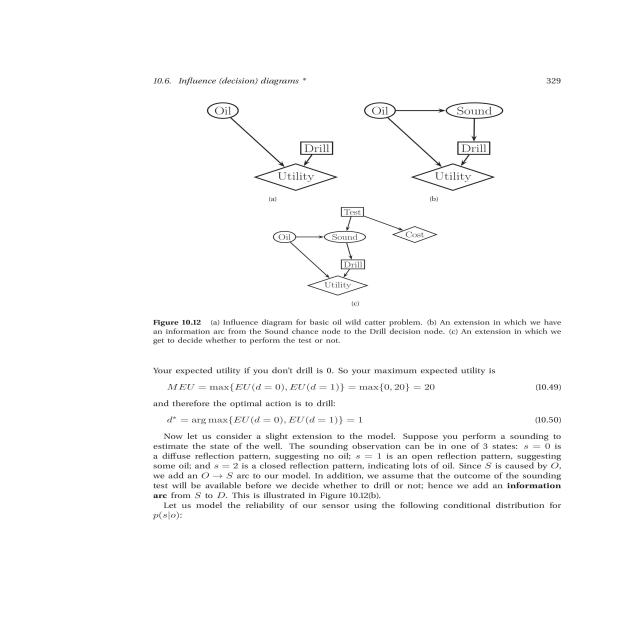diagram: (115, 94, 640, 360)
